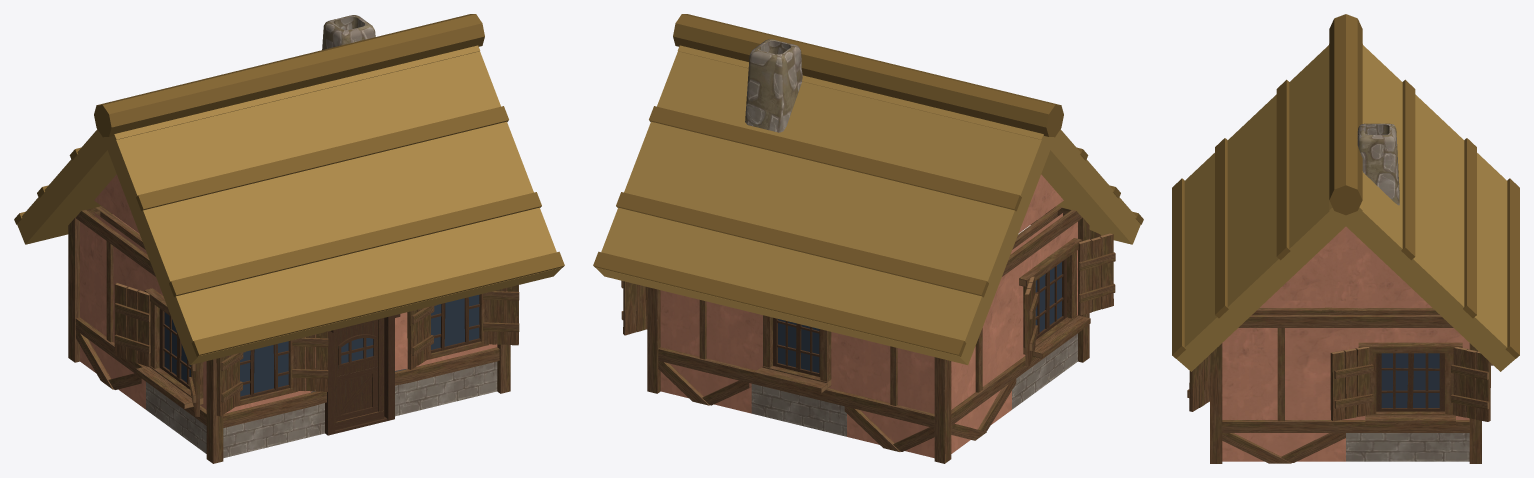
File: cottage_thatch.glb
3 renders of one model, left to right at view 1: azimuth 30°, elevation 25°; view 2: azimuth 150°, elevation 25°; view 3: azimuth 270°, elevation 25°, orthographic. The views are drawn at different scales.
Visible parts, largest first — view 1: RoofSlab.026, RidgeRoll.036, Wall_Plaster_Straight.014, RoofSlab.030, Course.029, Course.027, Course.028, Door_1_Round.006, Wall_Plaster_Window_Wide_Round.007, Wall_Plaster_Window_Wide_Round.001, Window_Wide_Flat1.016, WindowShutters_Wide_Round_Open.009 (+12 smaller); view 2: RoofSlab.030, RidgeRoll.036, Wall_Plaster_Straight.010, Wall_Plaster_Straight.013, RoofSlab.026, Wall_Plaster_Straight.014, Course.033, Course.031, Course.032, Wall_Plaster_Window_Wide_Flat.015, Wall_Plaster_Window_Wide_Flat.011, Window_Wide_Flat1.016 (+8 smaller); view 3: RoofSlab.026, RoofSlab.030, Wall_Plaster_Straight.018, Wall_Plaster_Window_Wide_Flat.019, Window_Wide_Flat1.020, RidgeRoll.036, Gable.034, WindowShutters_Wide_Flat_Open.021, Prop_Chimney2.037, Course.027, Course.031, Course.029 (+8 smaller).
Part boxes in pixels (left/top/right/bottom): RoofSlab.026: left=103, top=51, right=562, bottom=364; RidgeRoll.036: left=94, top=14, right=484, bottom=137; Wall_Plaster_Straight.014: left=75, top=206, right=146, bottom=409; RoofSlab.030: left=17, top=45, right=480, bottom=244; Course.029: left=191, top=251, right=564, bottom=356; Course.027: left=136, top=106, right=508, bottom=211; Course.028: left=169, top=192, right=541, bottom=297; Door_1_Round.006: left=335, top=318, right=384, bottom=430; Wall_Plaster_Window_Wide_Round.007: left=406, top=312, right=499, bottom=413; Wall_Plaster_Window_Wide_Round.001: left=223, top=337, right=313, bottom=458; Window_Wide_Flat1.016: left=136, top=288, right=203, bottom=408; WindowShutters_Wide_Round_Open.009: left=407, top=284, right=519, bottom=369; RoofSlab.030: left=595, top=51, right=1050, bottom=364; RidgeRoll.036: left=673, top=14, right=1063, bottom=137; Wall_Plaster_Straight.010: left=658, top=290, right=751, bottom=413; Wall_Plaster_Straight.013: left=844, top=335, right=934, bottom=458; RoofSlab.026: left=677, top=45, right=1140, bottom=244; Wall_Plaster_Straight.014: left=951, top=253, right=1016, bottom=453; Course.033: left=593, top=251, right=966, bottom=356; Course.031: left=649, top=106, right=1021, bottom=211; Course.032: left=616, top=192, right=988, bottom=297; Wall_Plaster_Window_Wide_Flat.015: left=1011, top=206, right=1082, bottom=409; Wall_Plaster_Window_Wide_Flat.011: left=749, top=312, right=846, bottom=436; Window_Wide_Flat1.016: left=1019, top=238, right=1090, bottom=358; RoofSlab.026: left=1176, top=44, right=1362, bottom=371; RoofSlab.030: left=1329, top=44, right=1515, bottom=371; Wall_Plaster_Straight.018: left=1222, top=307, right=1345, bottom=463; Wall_Plaster_Window_Wide_Flat.019: left=1346, top=308, right=1469, bottom=461; Window_Wide_Flat1.020: left=1358, top=342, right=1462, bottom=425; RidgeRoll.036: left=1329, top=14, right=1362, bottom=215; Gable.034: left=1267, top=226, right=1424, bottom=300; WindowShutters_Wide_Flat_Open.021: left=1330, top=347, right=1490, bottom=421; Prop_Chimney2.037: left=1357, top=123, right=1399, bottom=205; Course.027: left=1276, top=79, right=1290, bottom=260; Course.031: left=1401, top=79, right=1415, bottom=260; Course.029: left=1172, top=178, right=1186, bottom=358.
Size of the model in its own units: 7.8 by 6.4 by 6.7.
8 materials, 5 textured.
